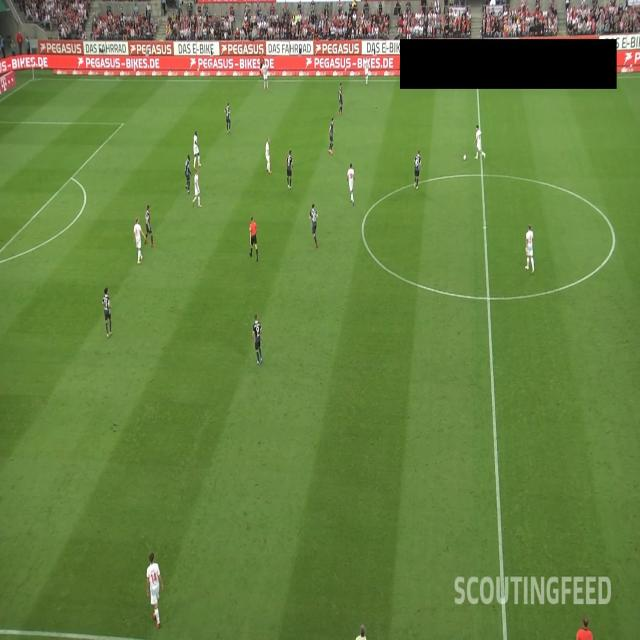ball: (463, 154, 467, 162)
